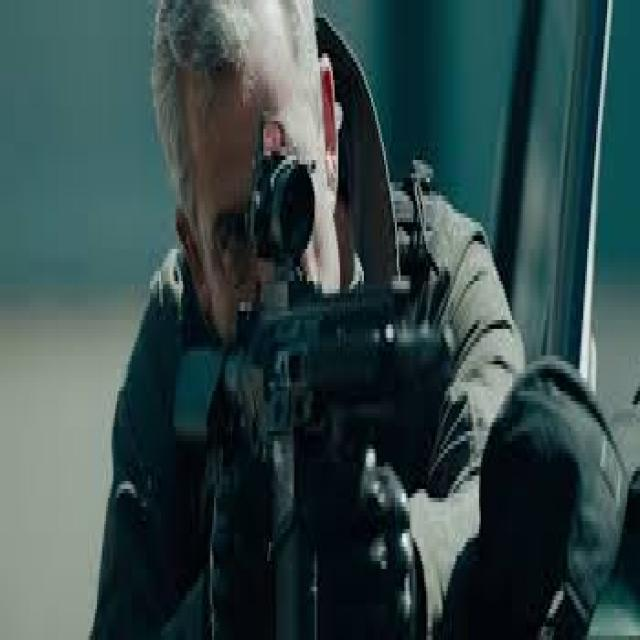weapon: (173, 277, 454, 640)
